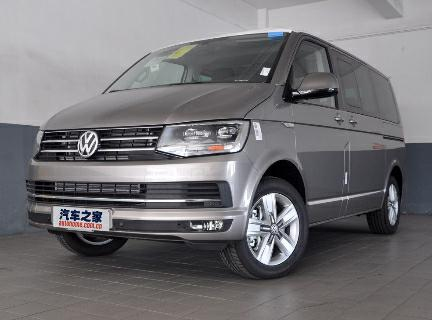大众-迈特威: (19, 24, 412, 282)
